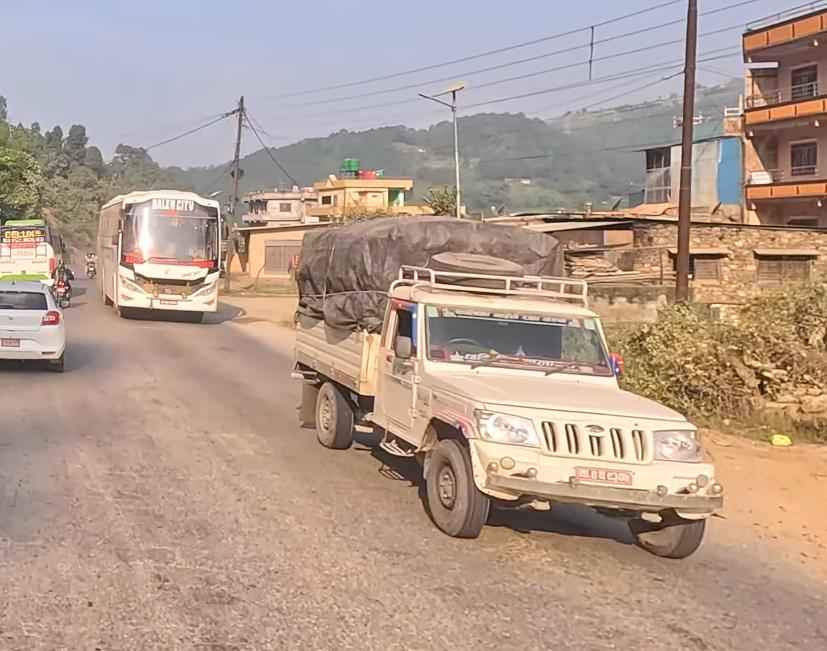bus: (86, 180, 232, 331), (0, 210, 77, 309)
car: (0, 273, 73, 378)
transport_vehicle: (306, 213, 726, 568)
